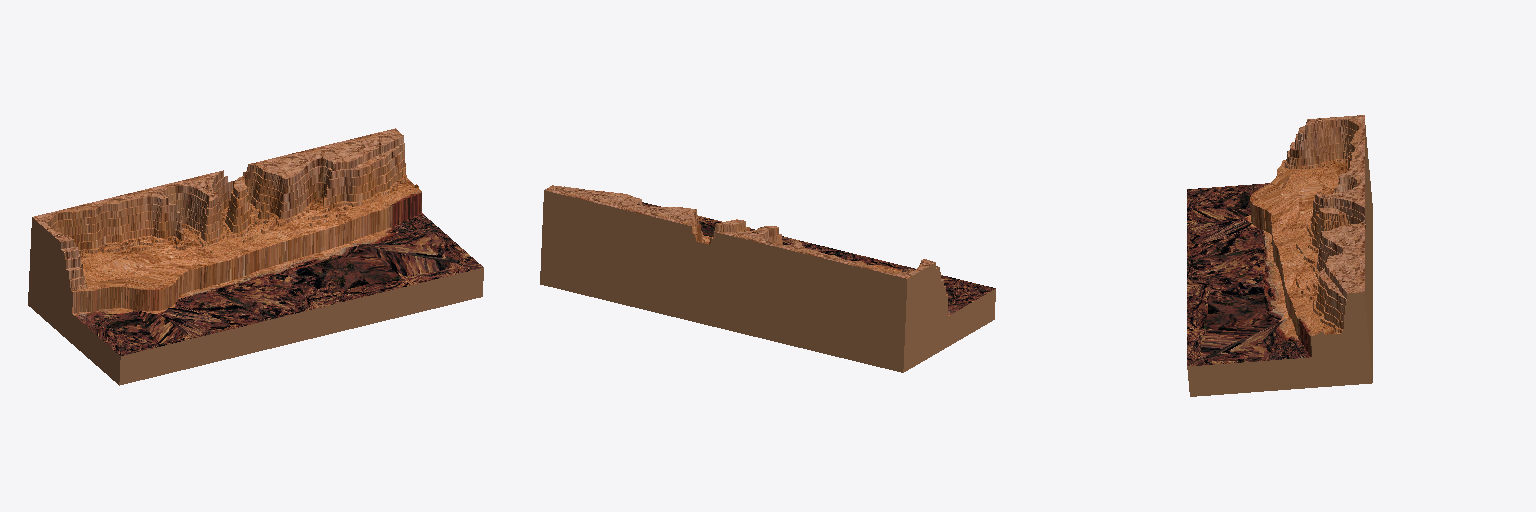
3 renders of one model, left to right at view 1: azimuth 30°, elevation 25°; view 2: azimuth 150°, elevation 25°; view 3: azimuth 270°, elevation 25°, orthographic.
Visible parts, largest first — view 1: canyon2; view 2: canyon2; view 3: canyon2.
Part boxes in pixels (bbox=[...]): canyon2: bbox=[28, 128, 483, 385]; canyon2: bbox=[540, 185, 995, 372]; canyon2: bbox=[1187, 115, 1372, 396].
Bounding box in the file's own units: 139 × 38.4 × 61.67.
Materials: 1 (1 with a texture image).